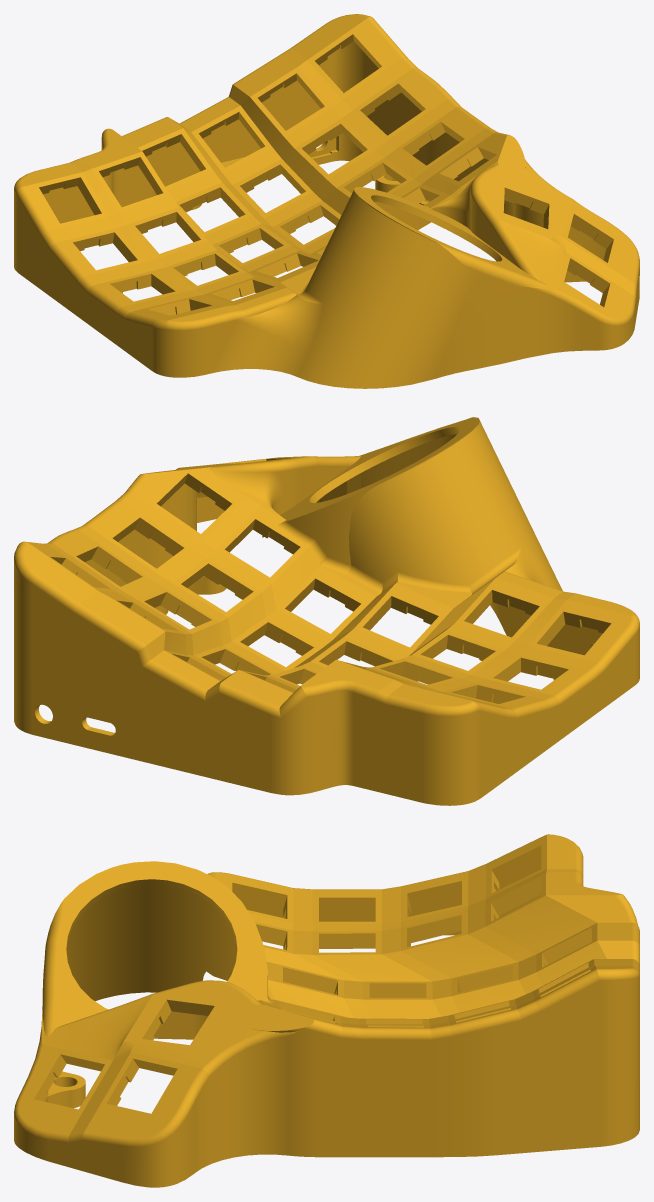
The model's file is charybdis3_v134.fbx.
3 renders of one model, top to bottom at view 1: azimuth 30°, elevation 25°; view 2: azimuth 150°, elevation 25°; view 3: azimuth 270°, elevation 25°, orthographic. The views are drawn at different scales.
Parts seen in each view (by area): view 1: charybdis3_v134; view 2: charybdis3_v134; view 3: charybdis3_v134.
Boxes of the visible parts, box(x1,y1,x2,y2) form: charybdis3_v134: box(14, 14, 639, 388); charybdis3_v134: box(14, 417, 639, 805); charybdis3_v134: box(14, 834, 639, 1187).
Size of the model in its own units: 150 by 47.09 by 154.
